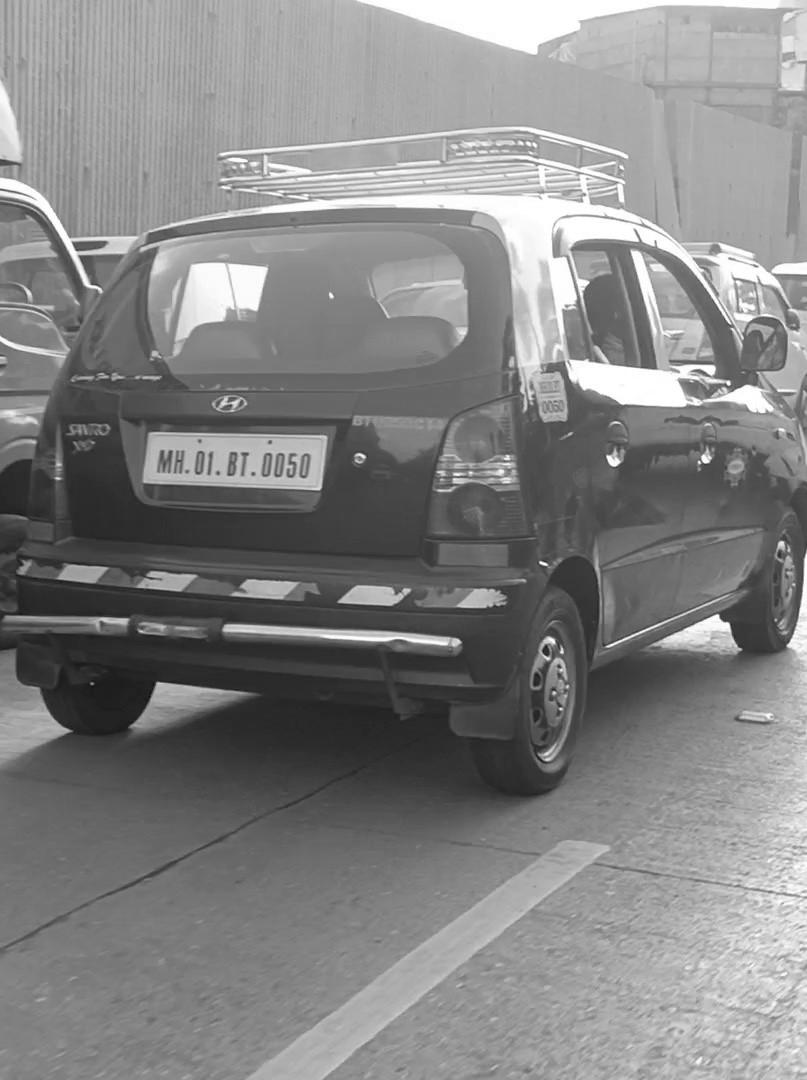number_plate: (146, 433, 325, 494)
